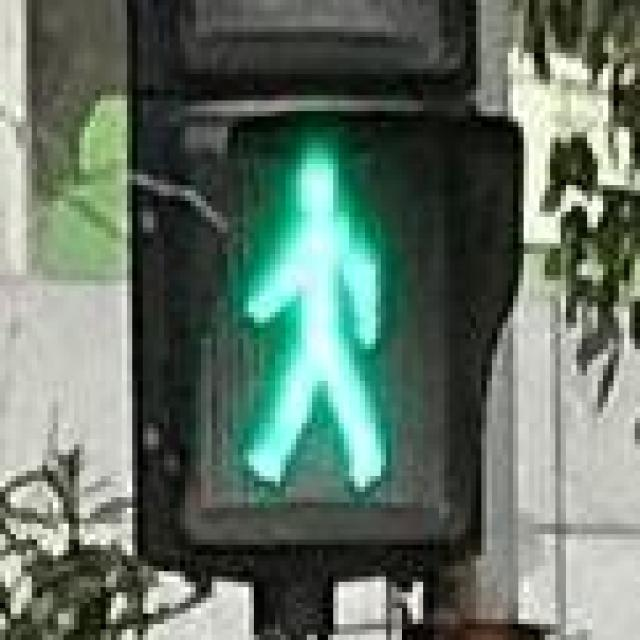green_light: (169, 100, 455, 529)
